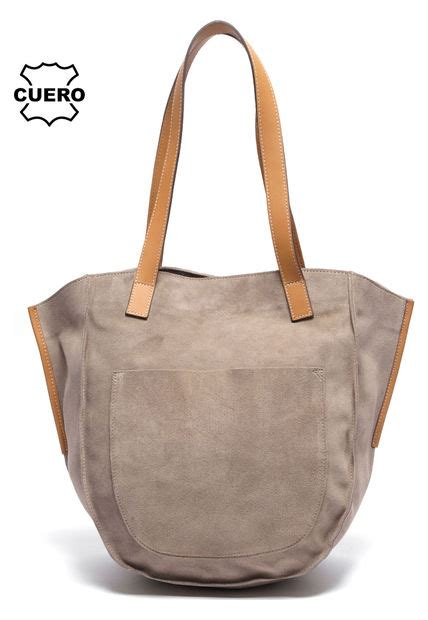gamuza: (35, 265, 407, 585)
